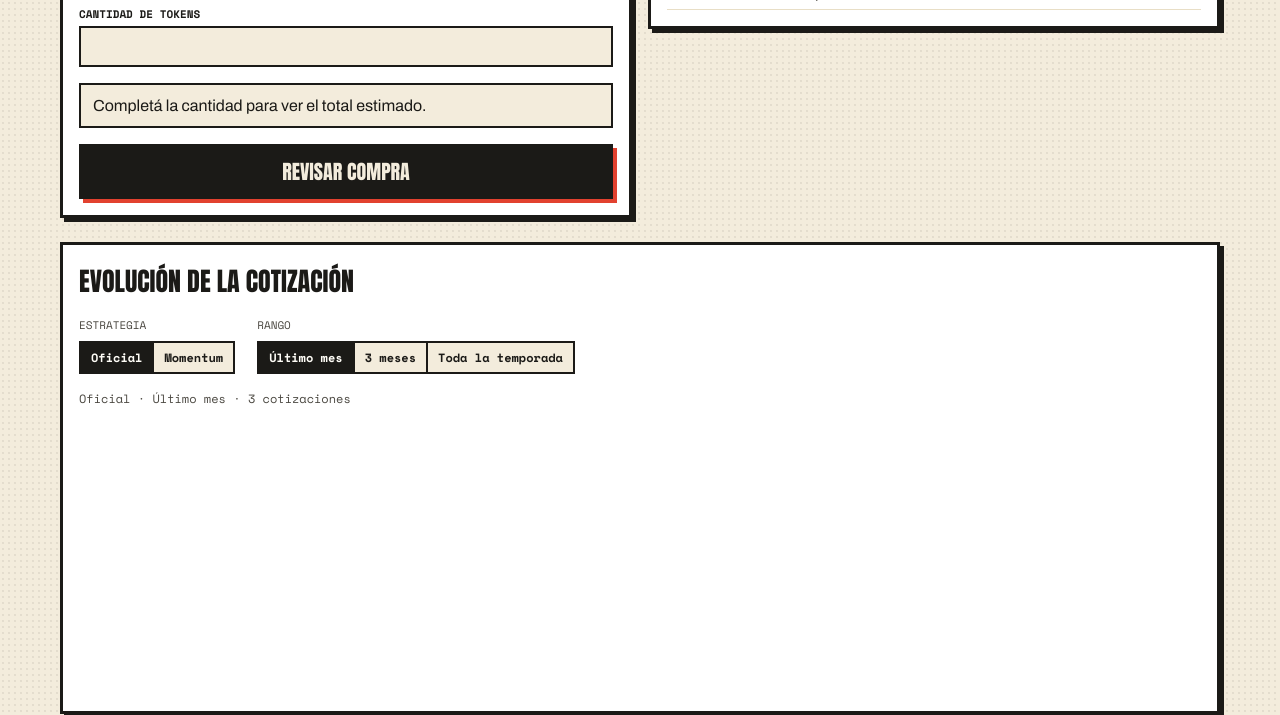
PlayerDetailPage › evolución › requests and shows the selected strategy and range
(page scrolled)
Click the radio button labelled "Momentum".
click(193, 358)  # box left=152, top=341, right=233, bottom=374
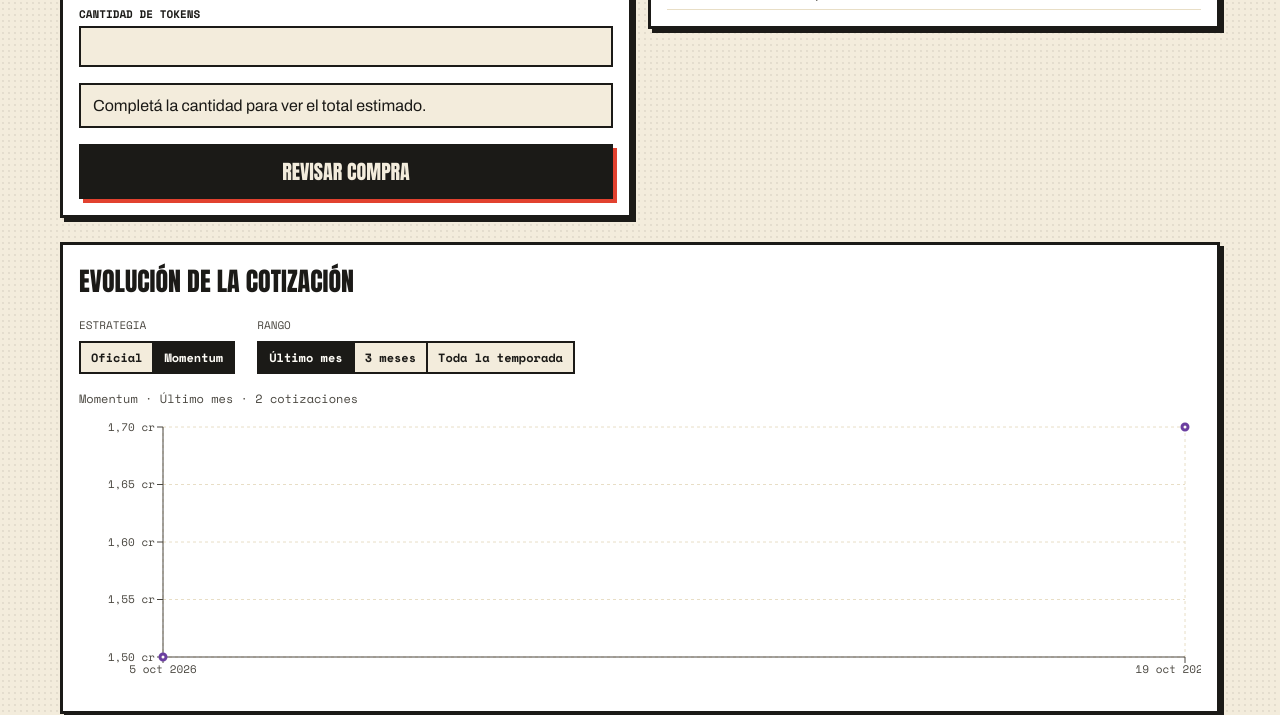
Click the radio button labelled "Toda la temporada".
click(500, 358)  # box left=426, top=341, right=573, bottom=374
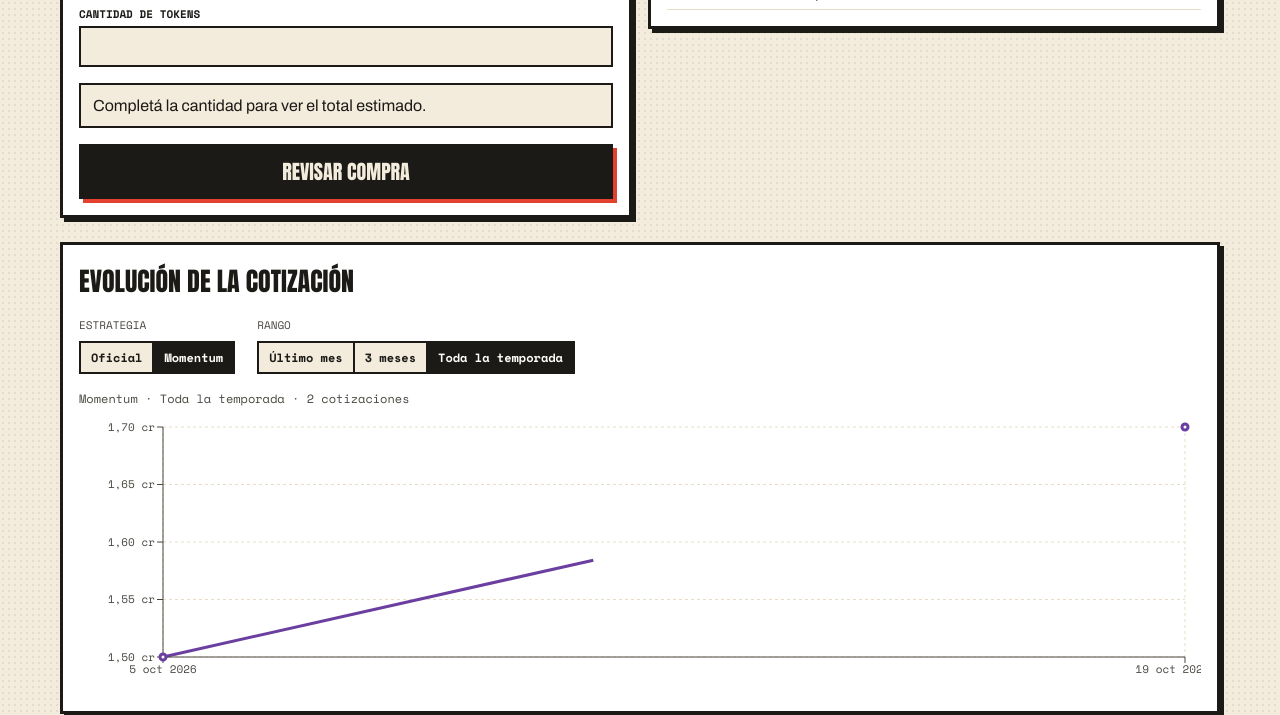
Expected: the 1st text "Momentum · Toda la temporada · 2 cotizaciones" is shown, left=79, top=390, right=410, bottom=407
